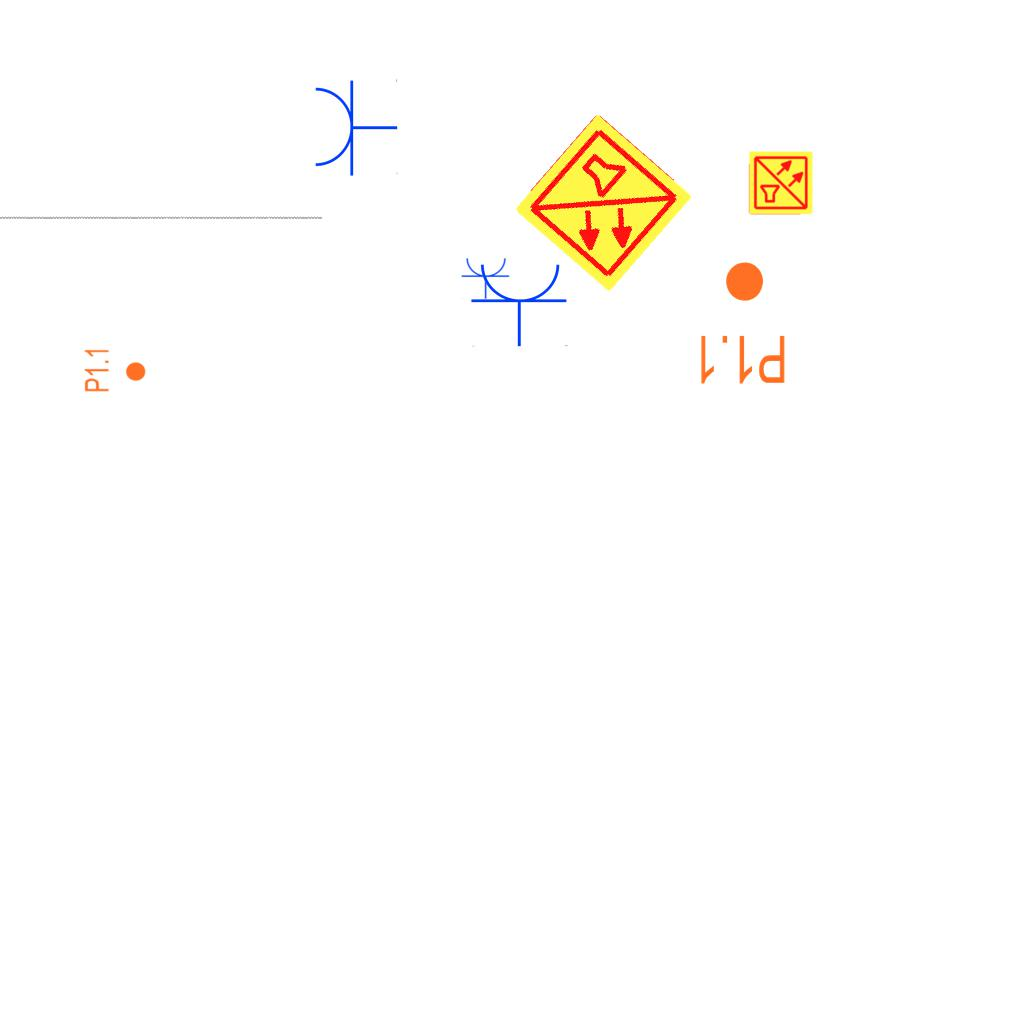Downlight_LED_Einbauleuchten_Flur: (695, 259, 788, 387), (83, 347, 147, 393)
OKW_Multisensormelder_(Kombination_optischer_Rauch-Kahlenmonoxid_Waerme-Melder): (509, 109, 697, 297), (748, 150, 814, 216)
Schukosteckdose_einfach: (311, 77, 398, 177), (470, 260, 570, 347), (461, 256, 511, 299)
